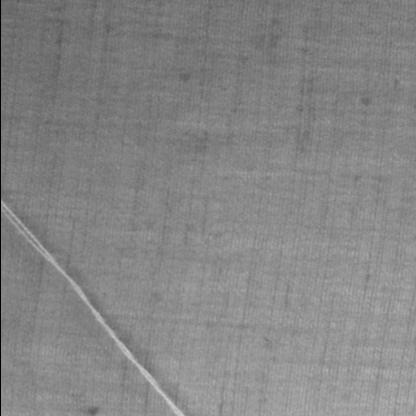objects: (1, 197, 190, 415)
